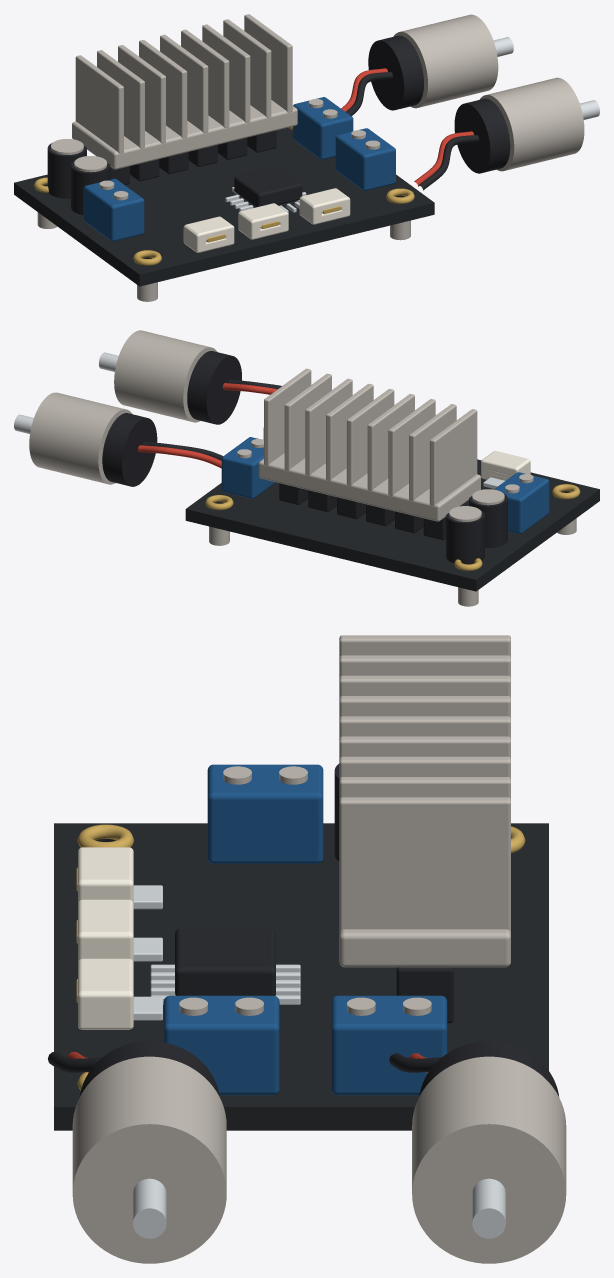
The model's file is anatomy-38.glb.
The picture shows the model from 3 angles, top to bottom: view 1: azimuth 30°, elevation 25°; view 2: azimuth 150°, elevation 25°; view 3: azimuth 270°, elevation 25°; orthographic projection. The views are drawn at different scales.
Visible parts, largest first — view 1: sink, board, motors, terminals, headers, capacitors, transistors, controller, wires, shafts; view 2: sink, motors, board, terminals, capacitors, transistors, wires, headers, shafts; view 3: board, sink, motors, terminals, headers, controller, shafts, transistors, wires.
Boxes of the visible parts, x1,y1,x2,y2 form: sink: [72, 14, 297, 169]; board: [14, 126, 434, 301]; motors: [368, 14, 584, 173]; terminals: [83, 97, 395, 241]; headers: [183, 188, 350, 252]; capacitors: [47, 139, 110, 215]; transistors: [110, 130, 276, 184]; controller: [225, 166, 306, 212]; wires: [341, 68, 479, 190]; shafts: [493, 37, 599, 119]; sink: [258, 368, 480, 521]; motors: [29, 330, 241, 486]; board: [185, 459, 599, 606]; terminals: [221, 428, 549, 533]; capacitors: [446, 489, 507, 564]; transistors: [279, 483, 445, 540]; wires: [138, 379, 281, 468]; headers: [481, 451, 530, 488]; shafts: [14, 352, 118, 433]; board: [54, 823, 548, 1130]; sink: [339, 635, 510, 967]; motors: [72, 1041, 566, 1263]; terminals: [163, 764, 447, 1095]; headers: [76, 847, 162, 1029]; controller: [150, 928, 300, 1004]; shafts: [133, 1178, 505, 1238]; transistors: [396, 967, 453, 1023]; wires: [48, 1052, 441, 1072].
Bounding box in the file's own units: 2.74 × 0.864 × 1.3.
